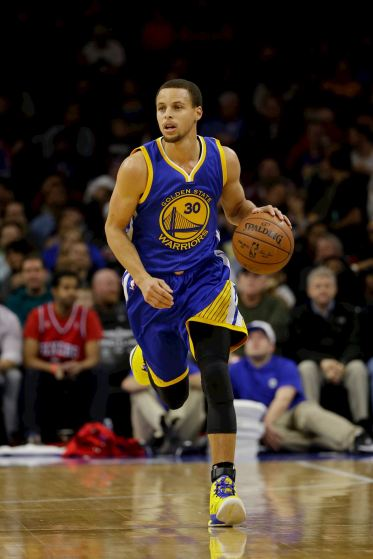ball: (232, 210, 295, 275)
